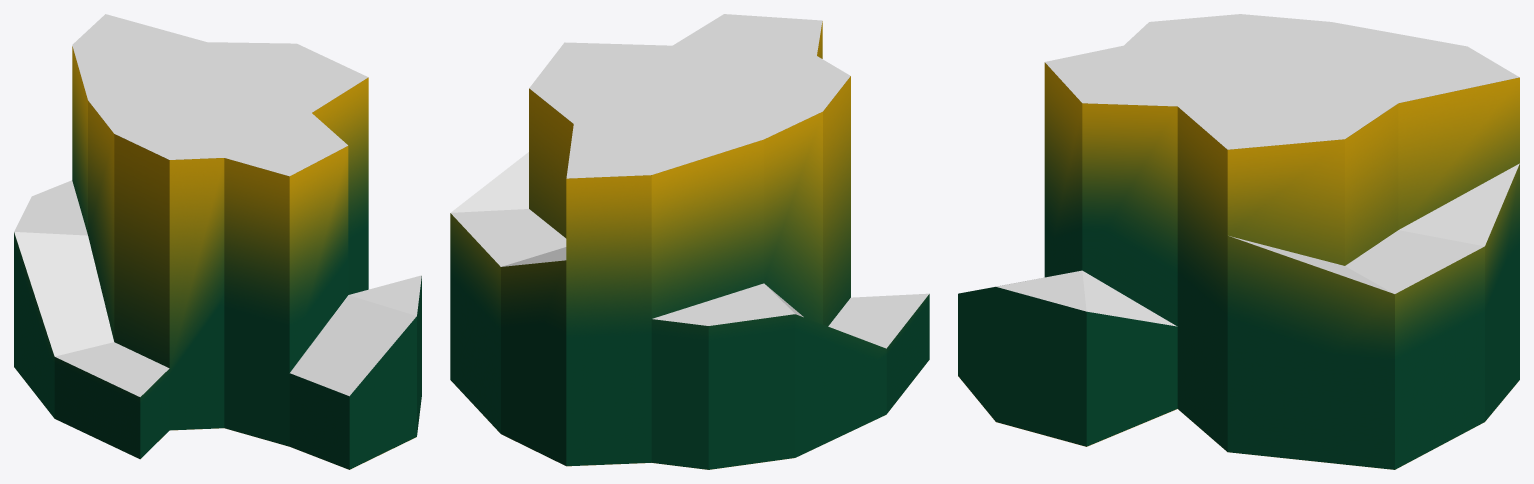
The model's file is MOD_Island2.fbx.
3 renders of one model, left to right at view 1: azimuth 30°, elevation 25°; view 2: azimuth 150°, elevation 25°; view 3: azimuth 270°, elevation 25°, orthographic. The views are drawn at different scales.
Visible parts, largest first — view 1: MOD_Island2; view 2: MOD_Island2; view 3: MOD_Island2.
Part boxes in pixels (x1,y1,x2,y2): MOD_Island2: [14, 14, 421, 469]; MOD_Island2: [450, 14, 929, 469]; MOD_Island2: [958, 14, 1519, 469].
Bounding box in the file's own units: 3.12 × 2.37 × 3.99.
2 materials, 1 textured.
